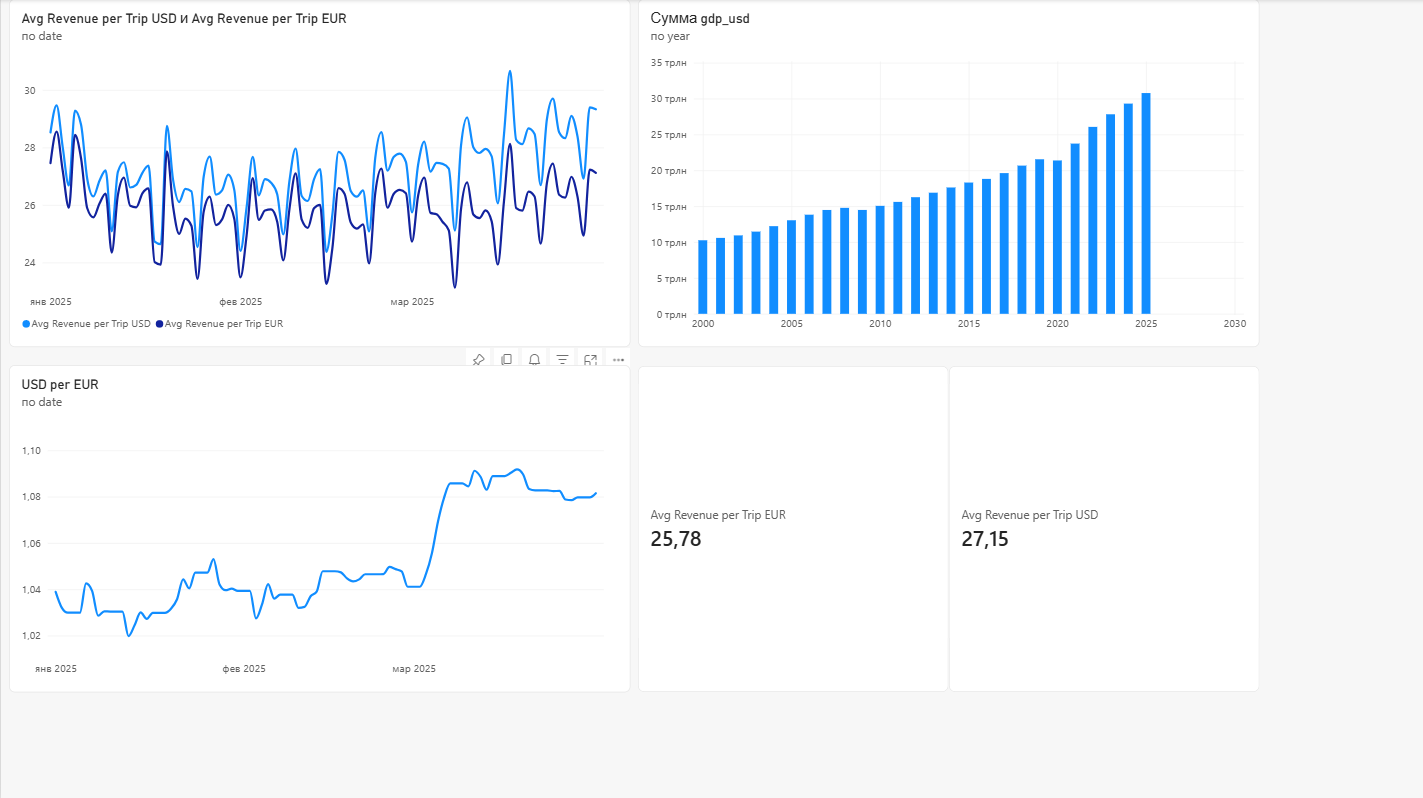

The dashboard page shown, as its layout file describes it:
{"tool":"powerbi","page":{"name":"Economy","canvas":[1920,1080],"ordinal":3},"visuals":[{"type":"lineChart","fields":{"Category":["dim_date.date.Variation.Date Hierarchy.Year"],"Y":["fact_taxi_daily.Avg Revenue per Trip USD","fact_taxi_daily.Avg Revenue per Trip EUR"]},"box":[10.6,0,839.3,469.5],"z":0},{"type":"lineChart","fields":{"Category":["dim_date.date.Variation.Date Hierarchy.Year"],"Y":["fact_taxi_daily.USD per EUR"]},"box":[10.6,493.4,839.3,441.6],"z":1},{"type":"clusteredColumnChart","fields":{"Category":["dim_gdp.year"],"Y":["Sum(dim_gdp.gdp_usd)"]},"box":[860,0,839,470],"z":2},{"type":"cardVisual","fields":{"Data":["fact_taxi_daily.Avg Revenue per Trip EUR"]},"box":[860.4,495.1,419.6,440.8],"z":3},{"type":"cardVisual","fields":{"Data":["fact_taxi_daily.Avg Revenue per Trip USD"]},"box":[1280,495.1,419.6,440.8],"z":4}]}

Visuals, with their boxes in screenshot pixels (x1, y1, x2, y2), scaled from the page's 1920x1080 canvas onto the 1423x798 screenshot:
lineChart - dim_date.date.Variation.Date Hierarchy.Year x fact_taxi_daily.Avg Revenue per Trip USD: [left=8, top=0, right=630, bottom=347]
lineChart - dim_date.date.Variation.Date Hierarchy.Year x fact_taxi_daily.USD per EUR: [left=8, top=365, right=630, bottom=691]
clusteredColumnChart - dim_gdp.year x Sum(dim_gdp.gdp_usd): [left=637, top=0, right=1259, bottom=347]
cardVisual - fact_taxi_daily.Avg Revenue per Trip EUR: [left=638, top=366, right=949, bottom=692]
cardVisual - fact_taxi_daily.Avg Revenue per Trip USD: [left=949, top=366, right=1260, bottom=692]
